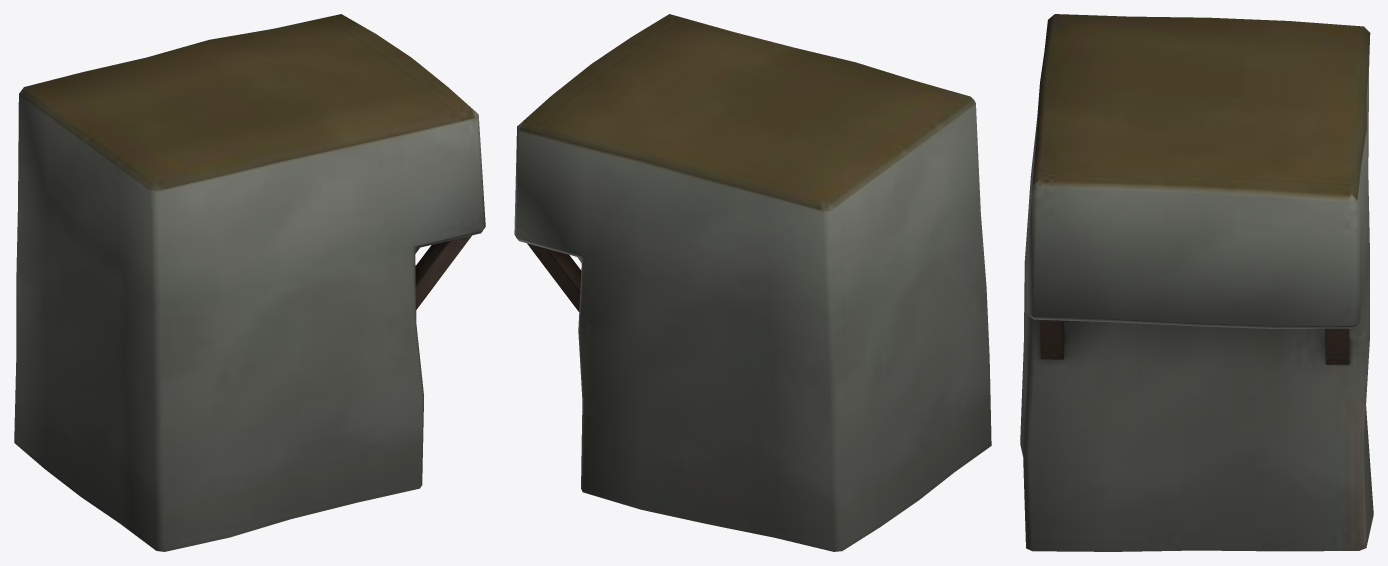
File: MSH_Building_009.glb
The picture shows the model from 3 angles, left to right: view 1: azimuth 30°, elevation 25°; view 2: azimuth 150°, elevation 25°; view 3: azimuth 270°, elevation 25°; orthographic projection. The views are drawn at different scales.
Visible parts, largest first — view 1: Base.011; view 2: Base.011; view 3: Base.011.
Part boxes in pixels (box(x1,y1,x2,y2)): Base.011: box(14, 14, 485, 551); Base.011: box(514, 14, 991, 551); Base.011: box(1020, 14, 1373, 551).
Bounding box in the file's own units: 6.49 × 6.65 × 5.28.
Materials: 1 (1 with a texture image).
